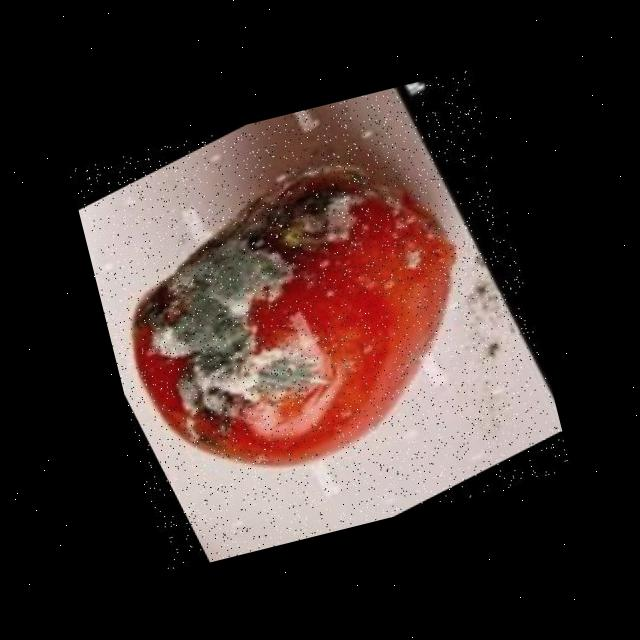tomato: (88, 127, 507, 505)
